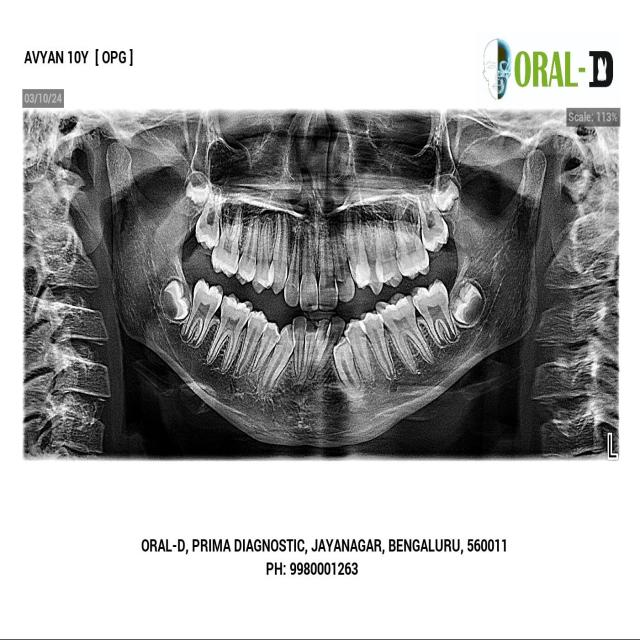Premolars: (358, 307, 398, 384), (344, 317, 377, 386)
